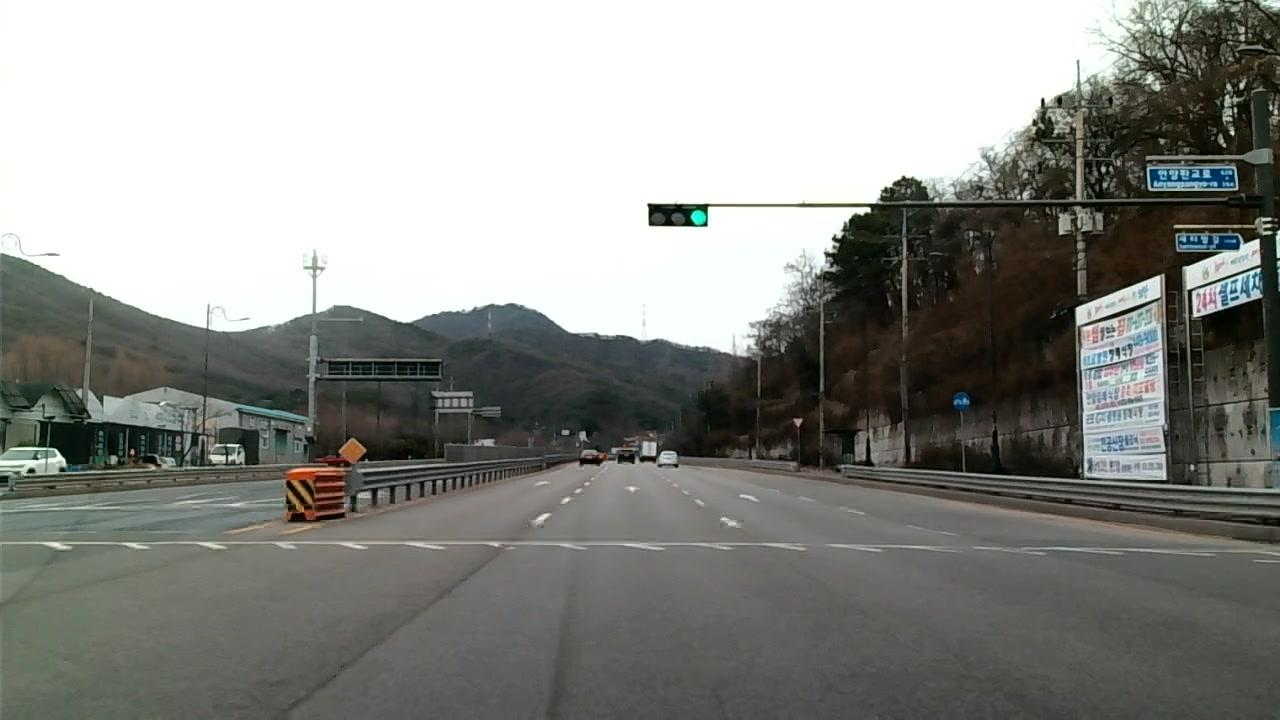banner: (1169, 236, 1280, 286), (1177, 268, 1280, 317), (1067, 274, 1160, 319), (1074, 301, 1163, 344), (1074, 325, 1164, 364), (1078, 350, 1164, 386), (1076, 373, 1166, 406), (1081, 453, 1169, 483), (1080, 400, 1165, 429), (1082, 427, 1167, 456)
